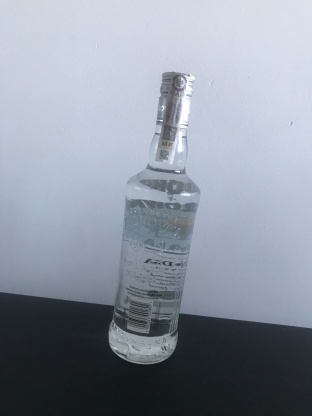nakretka: (153, 67, 197, 131)
